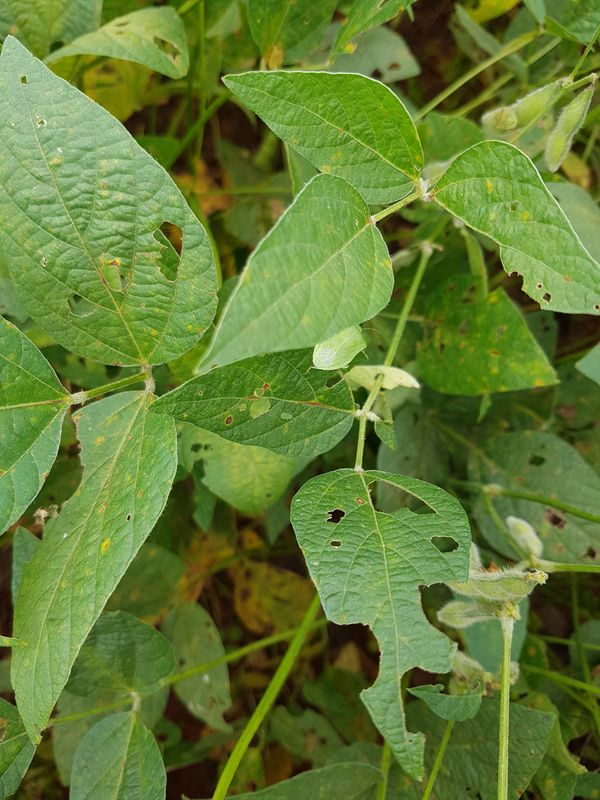Euschistus_heros_ninfa: (489, 104, 524, 135)
Nezara_viridula_adulto: (300, 314, 379, 380)
